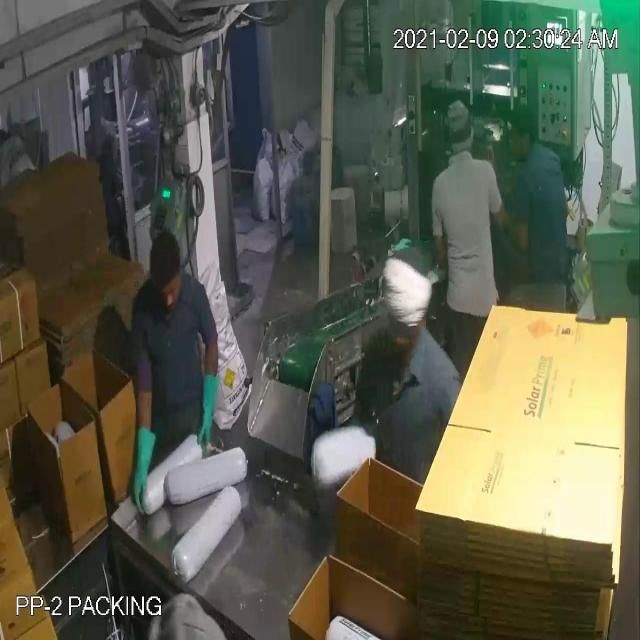Gloves: (34, 98, 206, 465)
